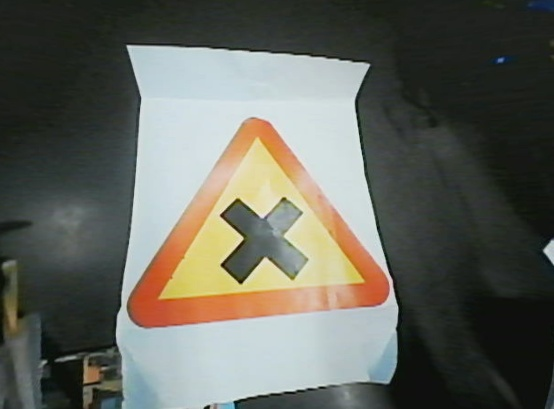junction: (124, 116, 394, 332)
